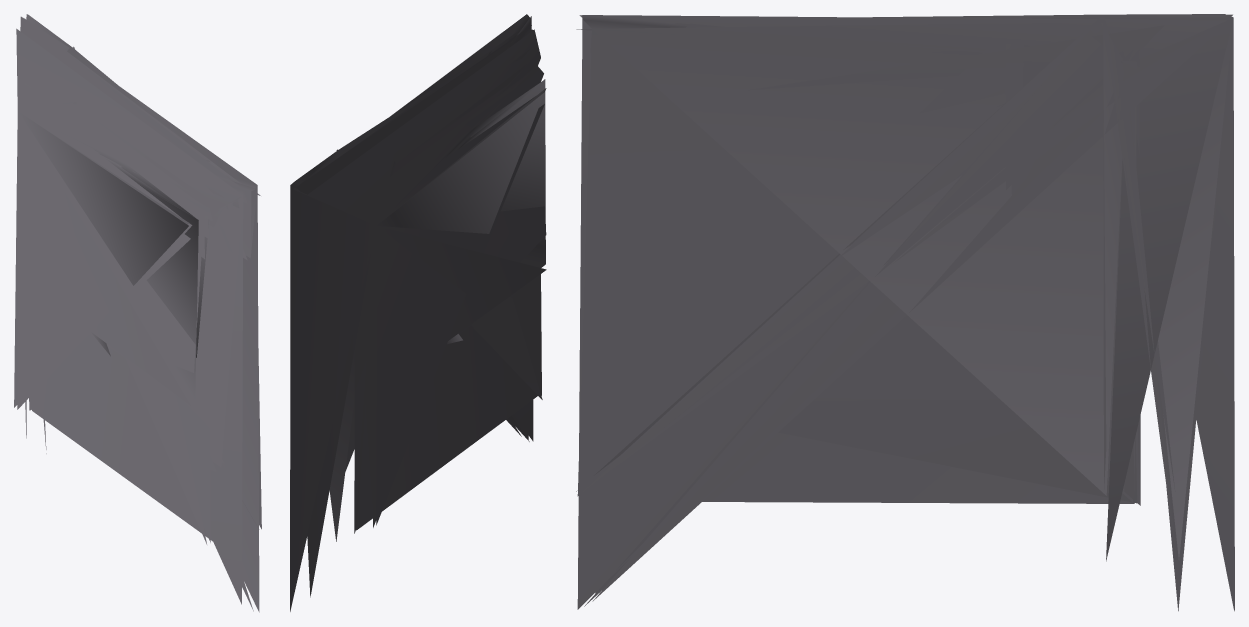
The model's file is cat.gltf.
The picture shows the model from 3 angles, left to right: view 1: azimuth 30°, elevation 25°; view 2: azimuth 150°, elevation 25°; view 3: azimuth 270°, elevation 25°; orthographic projection. The views are drawn at different scales.
Parts seen in each view (by area): view 1: node-0; view 2: node-0; view 3: node-0.
Boxes of the visible parts, x1,y1,x2,y2 form: node-0: (14,14,261,612); node-0: (290,14,546,611); node-0: (576,14,1234,611).
Bounding box in the file's own units: 1.58e-43 × 1.36e-42 × 1.36e-42.
